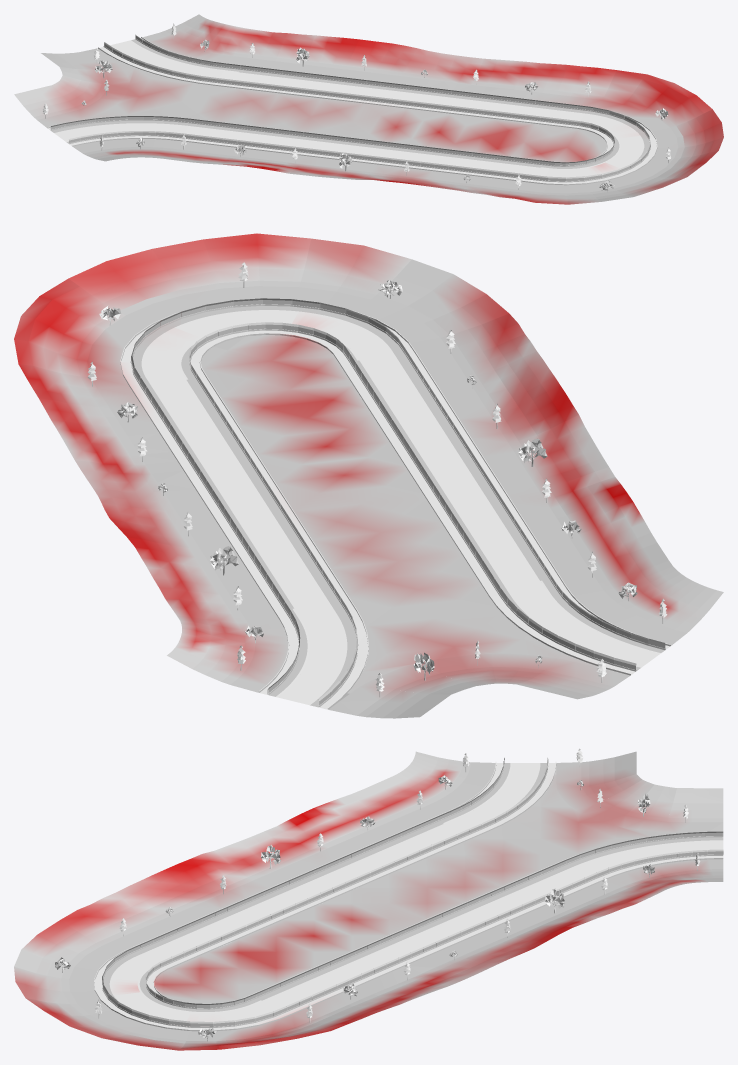
3 views of the same model, one above another, from view 1: azimuth 30°, elevation 25°; view 2: azimuth 150°, elevation 25°; view 3: azimuth 270°, elevation 25° (orthographic). The views are drawn at different scales.
Visible parts, largest first — view 1: Grass, Road, Wirefence, Track, Tress; view 2: Grass, Road, Track, Wirefence, Tress; view 3: Grass, Road, Track, Wirefence, Tress.
Part boxes in pixels (x1,y1,x2,y2): Grass: (14,14,723,204); Road: (54,40,643,177); Wirefence: (50,35,650,181); Track: (47,34,657,185); Tress: (43,23,670,192); Grass: (14,233,723,718); Road: (142,310,659,704); Track: (120,298,670,709); Wirefence: (131,298,665,705); Tress: (87,262,667,696); Grass: (14,751,723,1050); Road: (110,763,723,1021); Track: (94,762,723,1031); Wirefence: (102,757,723,1026); Tress: (55,749,700,1041).
Size of what is drawn, in the model's own units: 44950 by 1874 by 44976.
